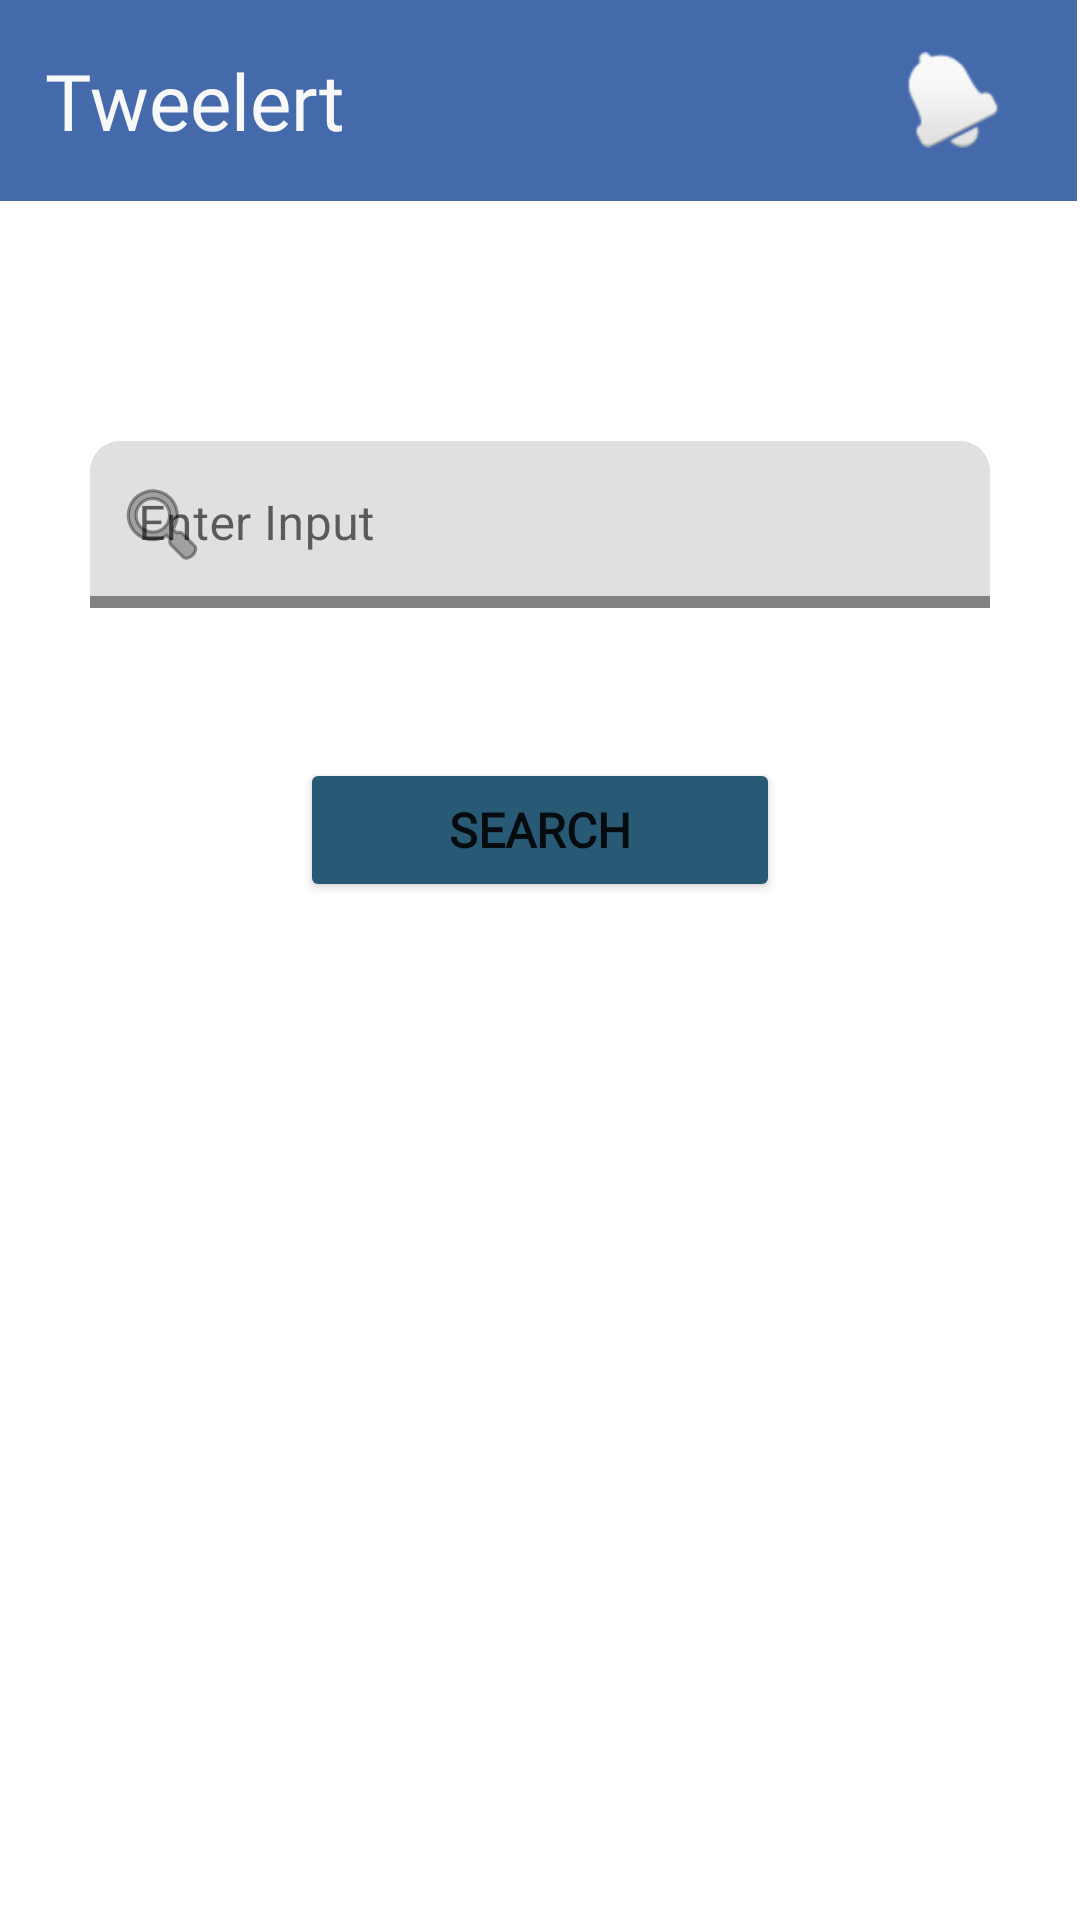

Screen size 1080px×1920px. Icon name, then its box in pixels as [left=x1, top=y1, right=x2, bottom=y2]:
popup reminder: [left=908, top=52, right=998, bottom=148]
